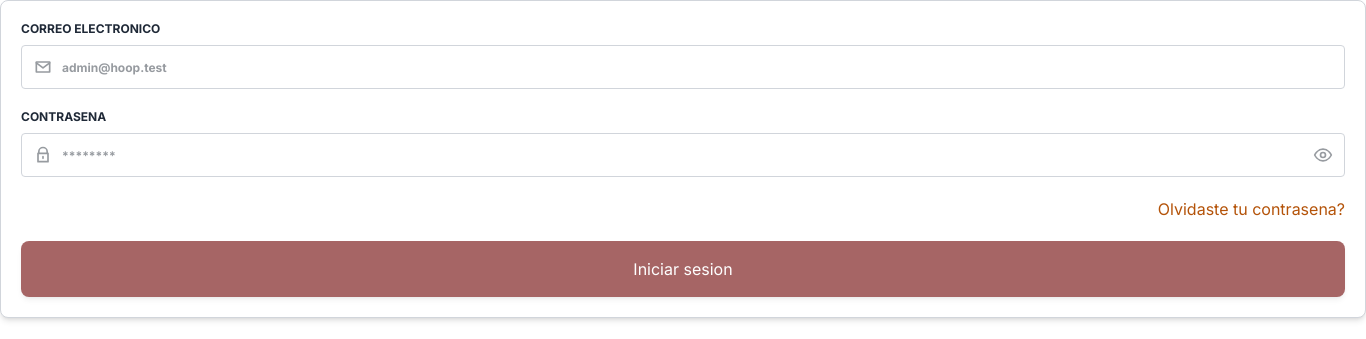
Test case: LoginForm integration › keeps submission disabled until both credentials are valid
Check: the submit button is disabled, box left=21, top=241, right=1345, bottom=297
Type "  admin@hoop.test  " into the field labelled "Correo electronico". click: (683, 67)
box: left=21, top=45, right=1345, bottom=89
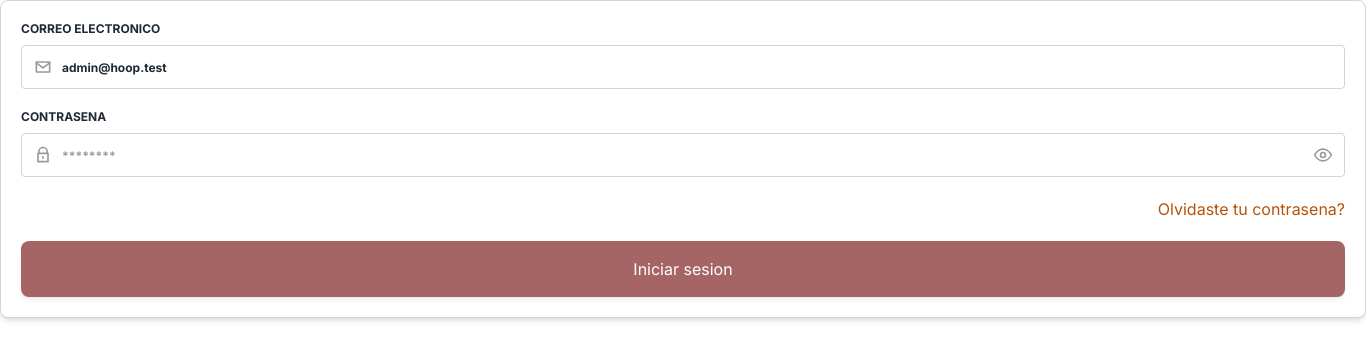
Type "secret" into the password field labelled "Contrasena". click: (683, 155)
box: left=21, top=133, right=1345, bottom=177
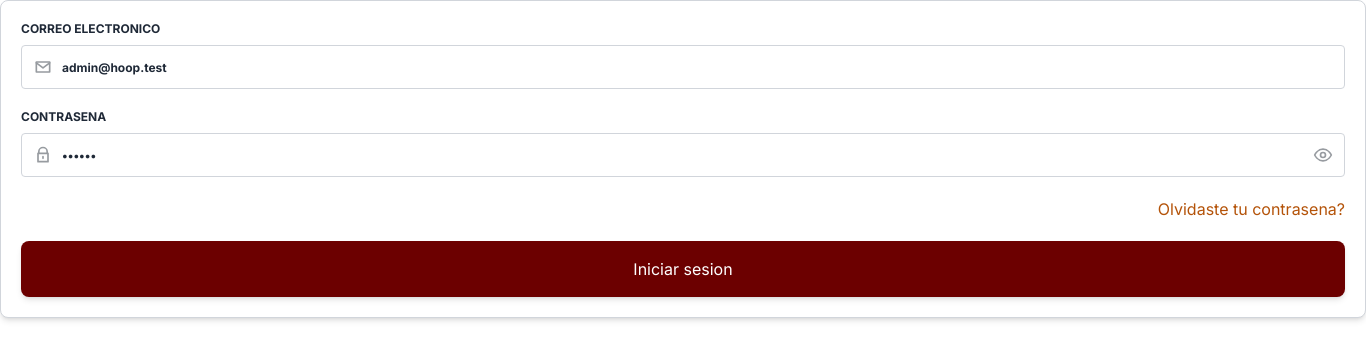
Check: the submit button is enabled, box left=21, top=241, right=1345, bottom=297
